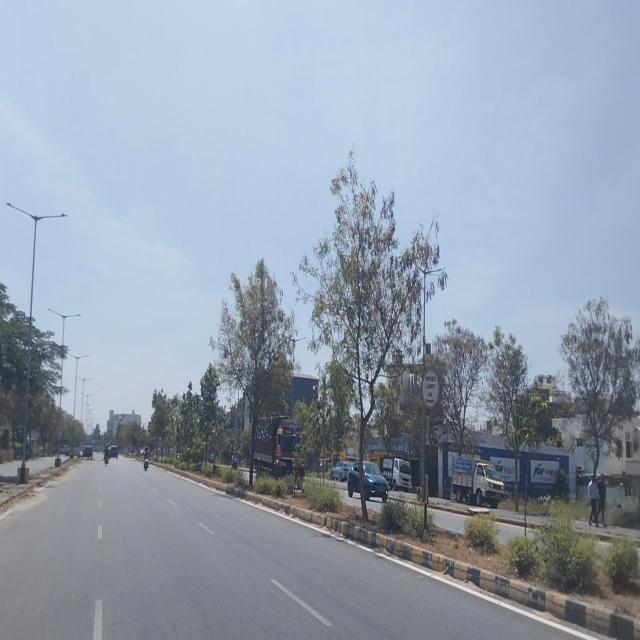bien_cam: (420, 368, 440, 411)
